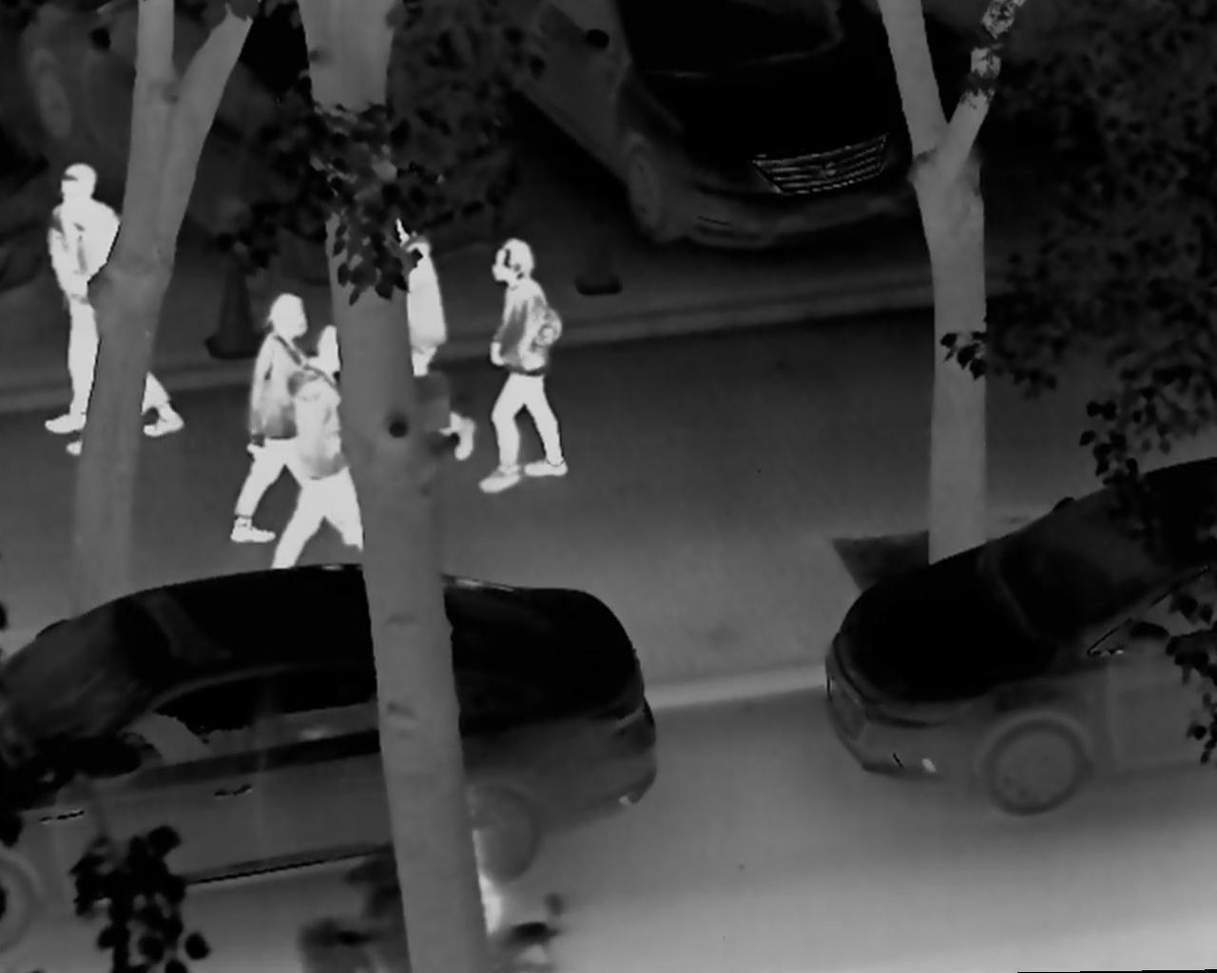person: (63, 210, 187, 457), (38, 163, 150, 435), (229, 284, 340, 546), (266, 326, 377, 572), (474, 236, 570, 497), (374, 216, 473, 464), (454, 827, 510, 951)
